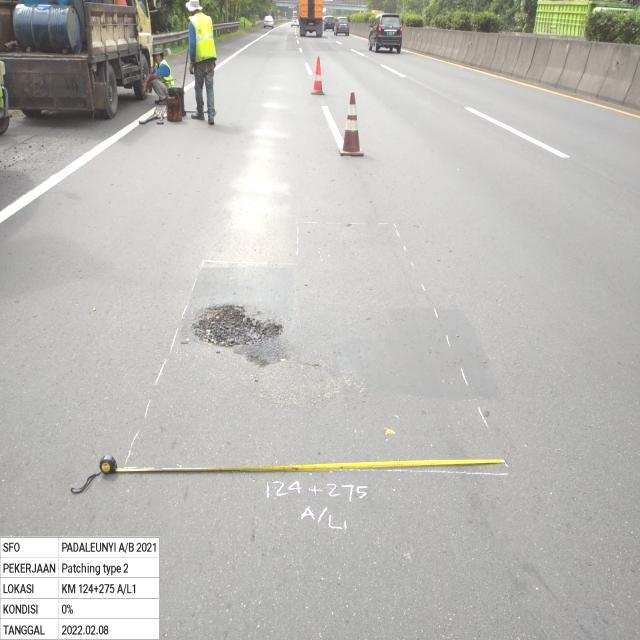Buraco: (188, 303, 287, 352)
